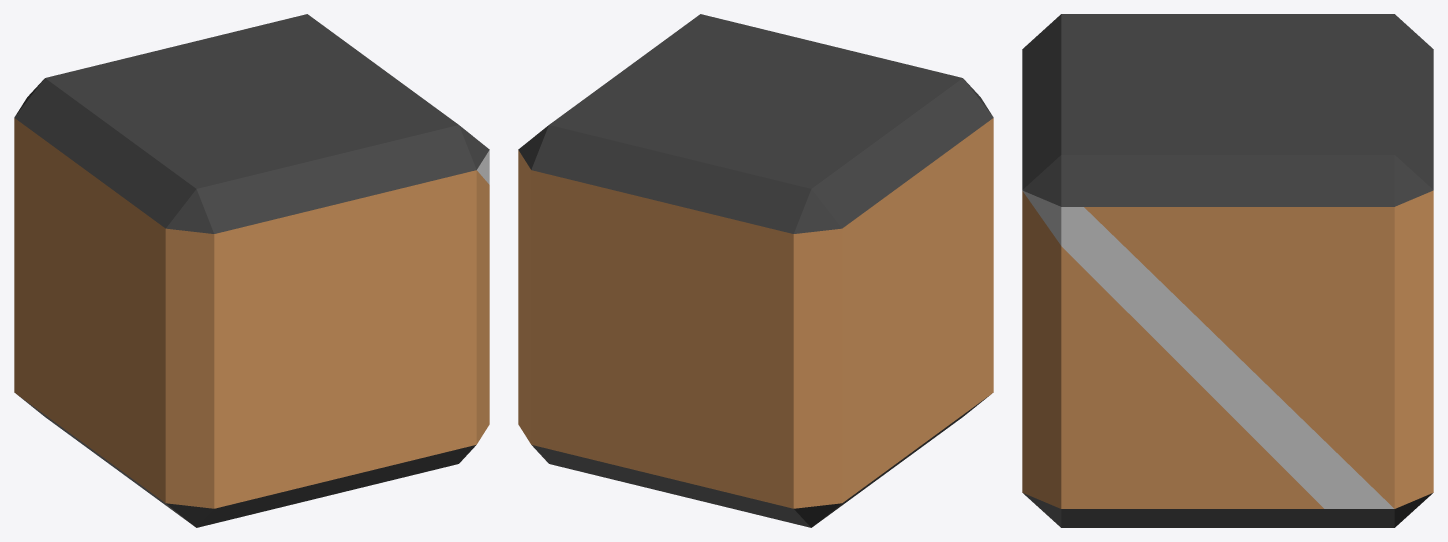
Rendered from BigCase1.fbx.
3 views of the same model, side by side, from view 1: azimuth 30°, elevation 25°; view 2: azimuth 150°, elevation 25°; view 3: azimuth 270°, elevation 25° (orthographic). The views are drawn at different scales.
Parts seen in each view (by area): view 1: Cube.028; view 2: Cube.028; view 3: Cube.028.
Boxes of the visible parts, x1,y1,x2,y2 form: Cube.028: [14, 14, 489, 527]; Cube.028: [518, 14, 993, 527]; Cube.028: [1022, 14, 1433, 527].
Size of the model in its own units: 72.28 by 72.28 by 72.28.
